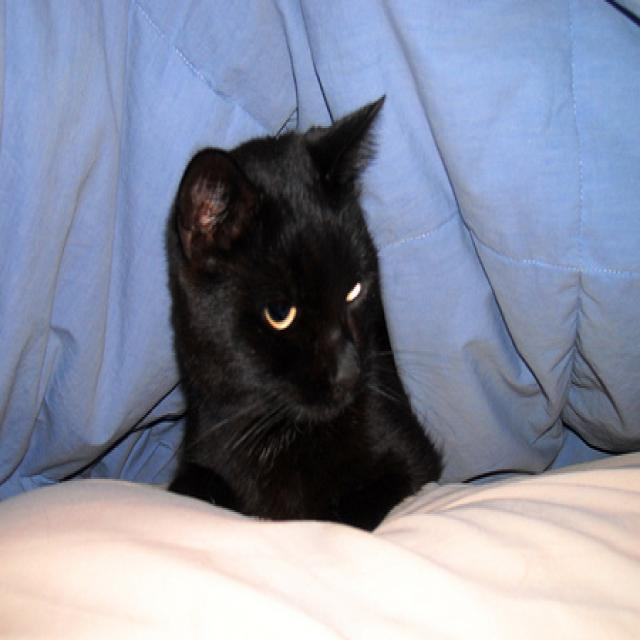Bombay: (160, 90, 450, 550)
